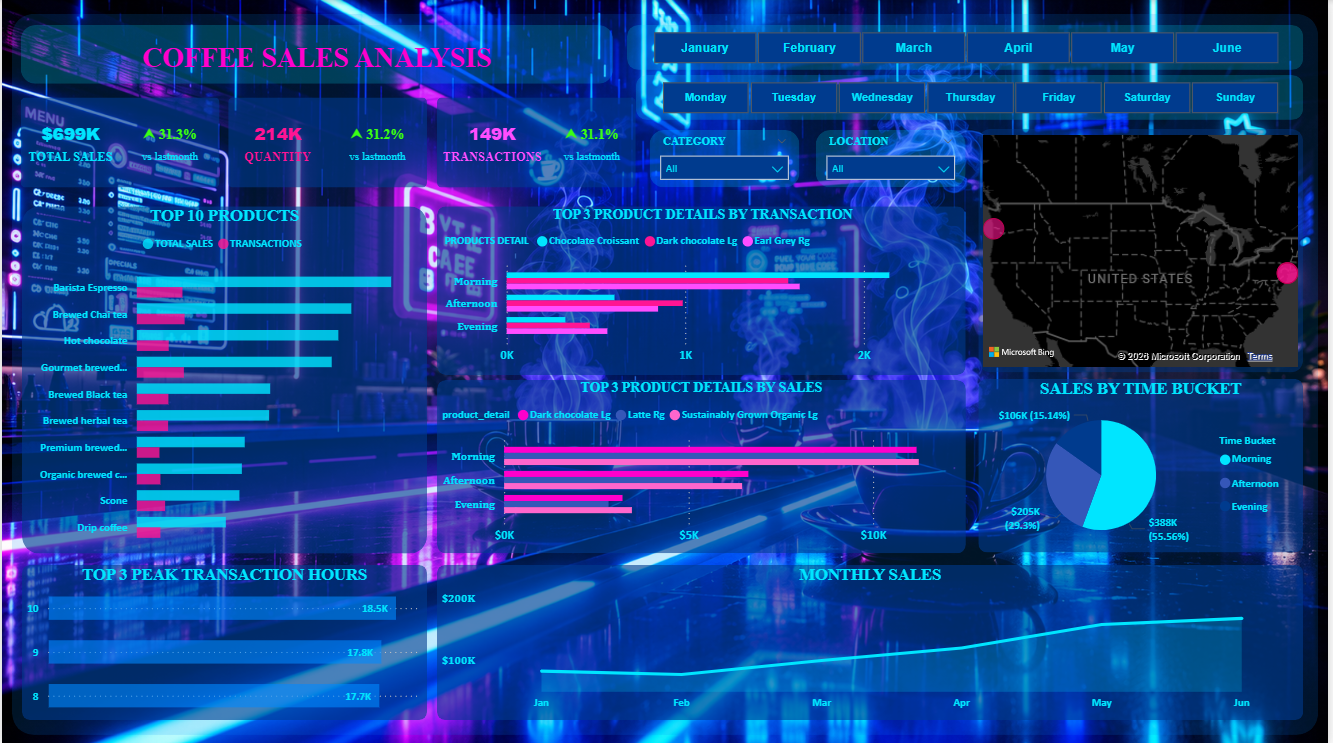

What the dashboard file says about the page in this screenshot:
{"tool":"powerbi","page":{"name":"Page 1","canvas":[1280,720],"ordinal":0},"visuals":[{"type":"shape","box":[9.7,13.3,1260.7,696.1],"z":0},{"type":"shape","box":[18.1,24.1,571.9,56.7],"z":1000},{"type":"textbox","box":[18.1,36.2,571.9,44.6],"z":2000},{"type":"shape","box":[603.2,24.1,652.7,43.4],"z":3000},{"type":"slicer","fields":{"Values":["DimDate.MonthName"]},"box":[603.2,24.1,652.7,43.4],"z":4000},{"type":"shape","box":[18.1,94.1,191.8,86.9],"z":5000},{"type":"shape","box":[218.4,94.1,191.8,86.9],"z":6000},{"type":"shape","box":[419.8,94.1,191.8,86.9],"z":7000},{"type":"card","fields":{"Values":["MEASURE.TOTAL SALES"]},"box":[18.1,94.1,96.5,86.9],"z":8000},{"type":"card","fields":{"Values":["MEASURE.QUANTITY"]},"box":[218.4,94.1,96.5,86.9],"z":9000},{"type":"card","fields":{"Values":["MEASURE.TRANSACTIONS"]},"box":[419.8,94.1,107.4,86.9],"z":10000},{"type":"card","fields":{"Values":["MEASURE.vs lastmonth"]},"box":[114.6,94.1,95.3,86.9],"z":11000},{"type":"card","fields":{"Values":["MEASURE.q vs lastmonth"]},"box":[314.9,94.1,95.3,86.9],"z":12000},{"type":"card","fields":{"Values":["MEASURE.t vs lastmonth"]},"box":[527.2,94.1,84.5,86.9],"z":13000},{"type":"shape","box":[611.7,72.4,644.2,43.4],"z":15000},{"type":"shape","box":[624.9,125.5,144.8,55.5],"z":16000},{"type":"slicer","fields":{"Values":["COFFEE.product_category"]},"box":[624.9,125.5,144.8,55.5],"z":17000},{"type":"shape","box":[785.4,125.5,144.8,55.5],"z":18000},{"type":"slicer","fields":{"Values":["COFFEE.store_location"]},"box":[785.4,125.5,144.8,55.5],"z":19000},{"type":"shape","box":[942.2,124.3,313.7,235.3],"z":20000},{"type":"map","fields":{"Size":["MEASURE.TOTAL SALES"],"Category":["COFFEE.store_location"]},"box":[942.2,125.5,313.7,234],"z":20001},{"type":"shape","box":[19.3,199.1,390.9,335.4],"z":20002},{"type":"clusteredBarChart","title":"TOP 10 PRODUCTS","fields":{"Category":["COFFEE.product_type"],"Y":["MEASURE.TOTAL SALES","MEASURE.TRANSACTIONS"]},"box":[19.3,199.1,390.9,335.4],"z":20003},{"type":"shape","box":[19.3,545.3,390.9,149.6],"z":20004},{"type":"clusteredBarChart","title":"TOP 3 PEAK TRANSACTION HOURS","fields":{"Y":["MEASURE.TRANSACTIONS"],"Category":["COFFEE.transaction_time"]},"box":[19.3,545.3,390.9,149.6],"z":20005},{"type":"slicer","fields":{"Values":["DimDate.DayName"]},"box":[611.7,72.4,644.2,43.4],"z":20006},{"type":"shape","box":[419.9,366.4,510.5,167.4],"z":20007},{"type":"shape","box":[419.8,199.1,510.3,162.9],"z":20008},{"type":"clusteredBarChart","title":"TOP 3 PRODUCT DETAILS BY TRANSACTION","fields":{"Y":["MEASURE.TRANSACTIONS"],"Category":["COFFEE.Time Bucket"],"Series":["COFFEE.product_detail"]},"box":[422.3,199.1,507.9,160.5],"z":20009},{"type":"shape","box":[419.8,545.3,836.1,149.6],"z":20010},{"type":"clusteredBarChart","title":"TOP 3 PRODUCT DETAILS BY SALES","fields":{"Category":["COFFEE.Time Bucket"],"Y":["MEASURE.TOTAL SALES"],"Series":["COFFEE.product_detail"]},"box":[419.8,366.8,510.3,166.5],"z":20011},{"type":"areaChart","title":"MONTHLY SALES","fields":{"Y":["MEASURE.TOTAL SALES"],"Category":["DimDate.MonthShort"]},"box":[419.8,545.3,836.1,149.6],"z":20012},{"type":"shape","box":[942.2,365.6,313.7,167.7],"z":20013},{"type":"pieChart","title":"SALES BY TIME BUCKET","fields":{"Category":["COFFEE.Time Bucket"],"Y":["MEASURE.TOTAL SALES"]},"box":[942.2,365.6,313.7,168.9],"z":20014}]}

Visuals, with their boxes in screenshot pixels (x1, y1, x2, y2), scaled from the page's 1280x720 canvas onto the 1333x743 screenshot:
shape: detection(10, 14, 1323, 732)
shape: detection(19, 25, 614, 83)
textbox: detection(19, 37, 614, 83)
shape: detection(628, 25, 1308, 70)
slicer - DimDate.MonthName: detection(628, 25, 1308, 70)
shape: detection(19, 97, 219, 187)
shape: detection(227, 97, 427, 187)
shape: detection(437, 97, 637, 187)
card - MEASURE.TOTAL SALES: detection(19, 97, 119, 187)
card - MEASURE.QUANTITY: detection(227, 97, 328, 187)
card - MEASURE.TRANSACTIONS: detection(437, 97, 549, 187)
card - MEASURE.vs lastmonth: detection(119, 97, 219, 187)
card - MEASURE.q vs lastmonth: detection(328, 97, 427, 187)
card - MEASURE.t vs lastmonth: detection(549, 97, 637, 187)
shape: detection(637, 75, 1308, 119)
shape: detection(651, 130, 802, 187)
slicer - COFFEE.product_category: detection(651, 130, 802, 187)
shape: detection(818, 130, 969, 187)
slicer - COFFEE.store_location: detection(818, 130, 969, 187)
shape: detection(981, 128, 1308, 371)
map - MEASURE.TOTAL SALES x COFFEE.store_location: detection(981, 130, 1308, 371)
shape: detection(20, 205, 427, 552)
"TOP 10 PRODUCTS" clusteredBarChart: detection(20, 205, 427, 552)
shape: detection(20, 563, 427, 717)
"TOP 3 PEAK TRANSACTION HOURS" clusteredBarChart: detection(20, 563, 427, 717)
slicer - DimDate.DayName: detection(637, 75, 1308, 119)
shape: detection(437, 378, 969, 551)
shape: detection(437, 205, 969, 374)
"TOP 3 PRODUCT DETAILS BY TRANSACTION" clusteredBarChart: detection(440, 205, 969, 371)
shape: detection(437, 563, 1308, 717)
"TOP 3 PRODUCT DETAILS BY SALES" clusteredBarChart: detection(437, 379, 969, 550)
"MONTHLY SALES" areaChart: detection(437, 563, 1308, 717)
shape: detection(981, 377, 1308, 550)
"SALES BY TIME BUCKET" pieChart: detection(981, 377, 1308, 552)
